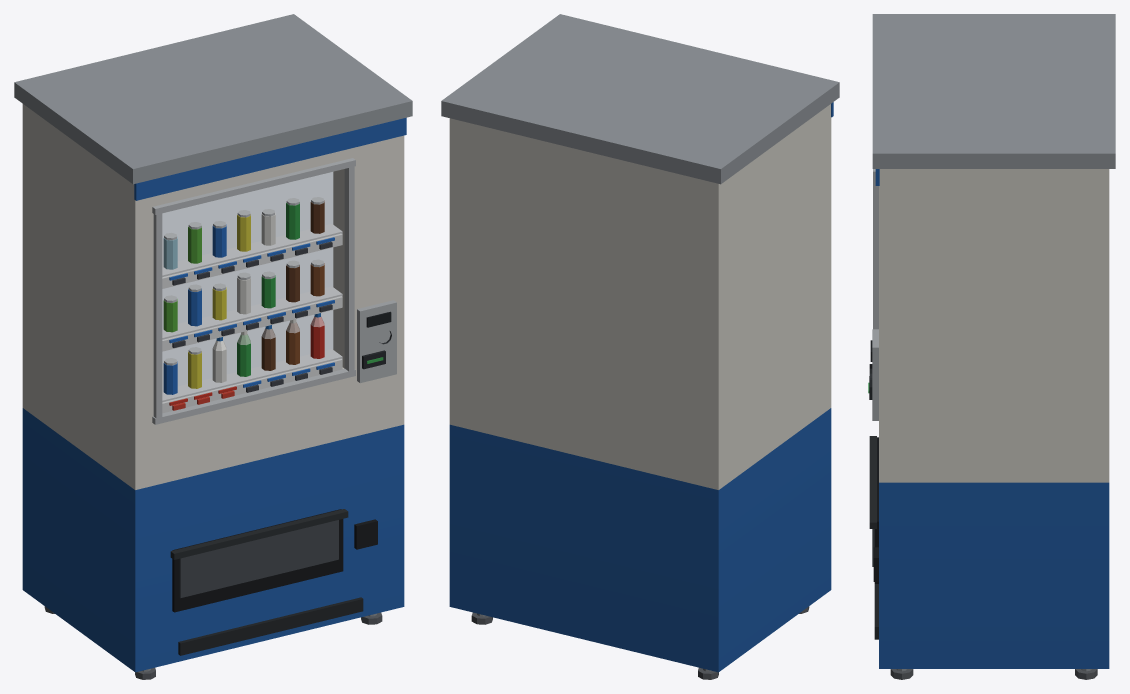
The model's file is vending_blue.glb.
3 renders of one model, left to right at view 1: azimuth 30°, elevation 25°; view 2: azimuth 150°, elevation 25°; view 3: azimuth 270°, elevation 25°, orthographic. The views are drawn at different scales.
Parts seen in each view (by area): view 1: vending_blue; view 2: vending_blue; view 3: vending_blue.
Part boxes in pixels (bbox=[...]): vending_blue: bbox=[14, 14, 412, 679]; vending_blue: bbox=[441, 14, 839, 679]; vending_blue: bbox=[868, 14, 1115, 679].
Size of the model in its own units: 1.06 by 1.9 by 0.794.
